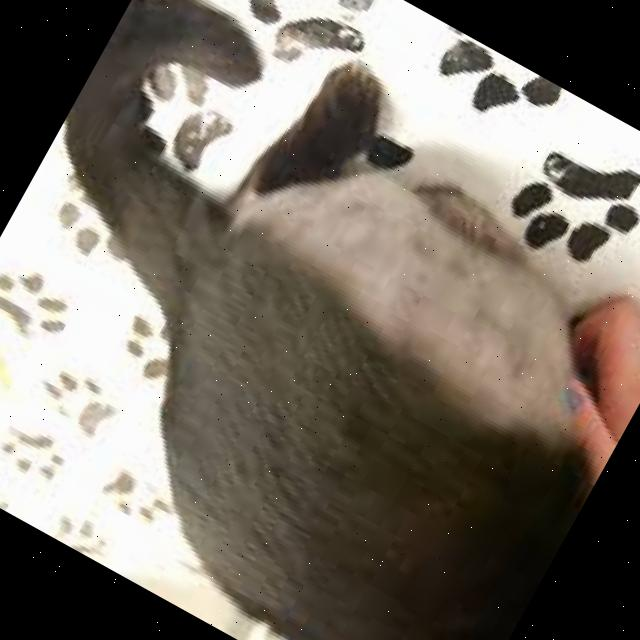cat-hairloss: (244, 163, 615, 458)
